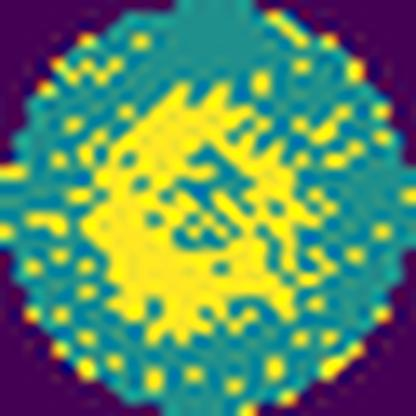Donut: (72, 86, 340, 350)
